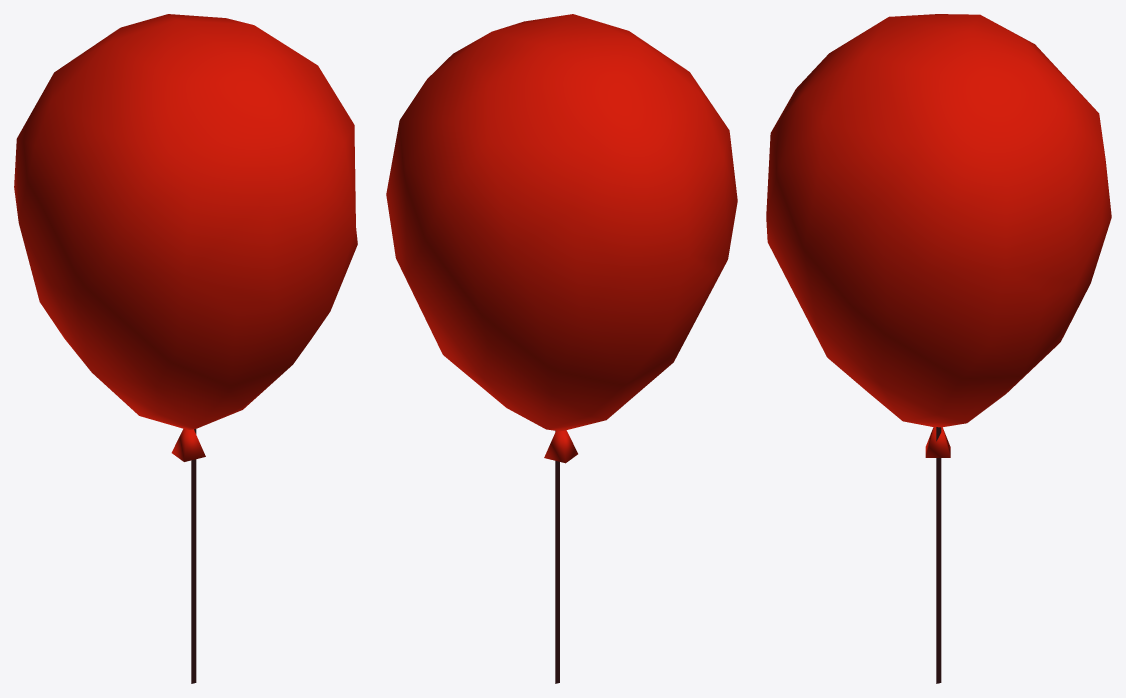
File: Balloon.fbx
The picture shows the model from 3 angles, left to right: view 1: azimuth 30°, elevation 25°; view 2: azimuth 150°, elevation 25°; view 3: azimuth 270°, elevation 25°; orthographic projection.
Visible parts, largest first — view 1: Balloon_LOD0; view 2: Balloon_LOD0; view 3: Balloon_LOD0.
Part boxes in pixels (bbox=[...]): Balloon_LOD0: bbox=[14, 14, 357, 683]; Balloon_LOD0: bbox=[386, 14, 737, 683]; Balloon_LOD0: bbox=[766, 14, 1111, 683].
Size of what is drawn, in the model's own units: 229 by 472 by 228.
